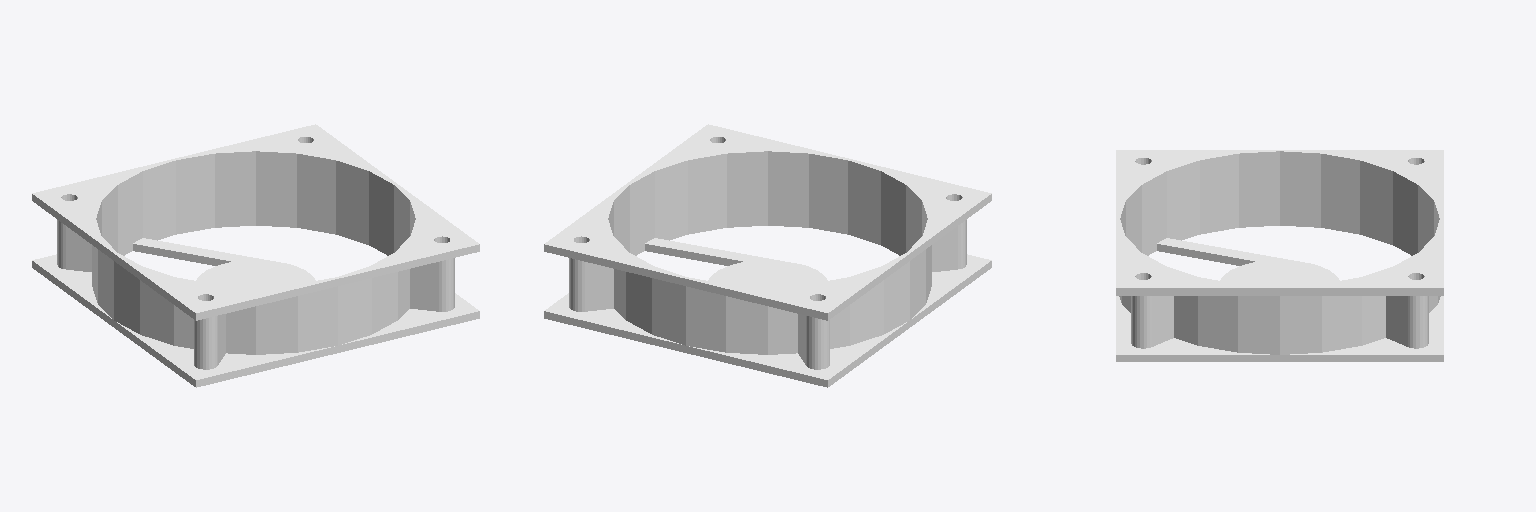
File: FanCase.obj
The picture shows the model from 3 angles: view 1: azimuth 30°, elevation 25°; view 2: azimuth 150°, elevation 25°; view 3: azimuth 270°, elevation 25°; orthographic projection.
Visible parts, largest first — view 1: FanCase_g_3660-Default_Material; view 2: FanCase_g_3660-Default_Material; view 3: FanCase_g_3660-Default_Material.
Boxes of the visible parts, <box> form: FanCase_g_3660-Default_Material: <box>32,124,479,387</box>; FanCase_g_3660-Default_Material: <box>544,124,991,387</box>; FanCase_g_3660-Default_Material: <box>1116,150,1443,361</box>.
Size of the model in its own units: 0.08 by 0.02 by 0.08.